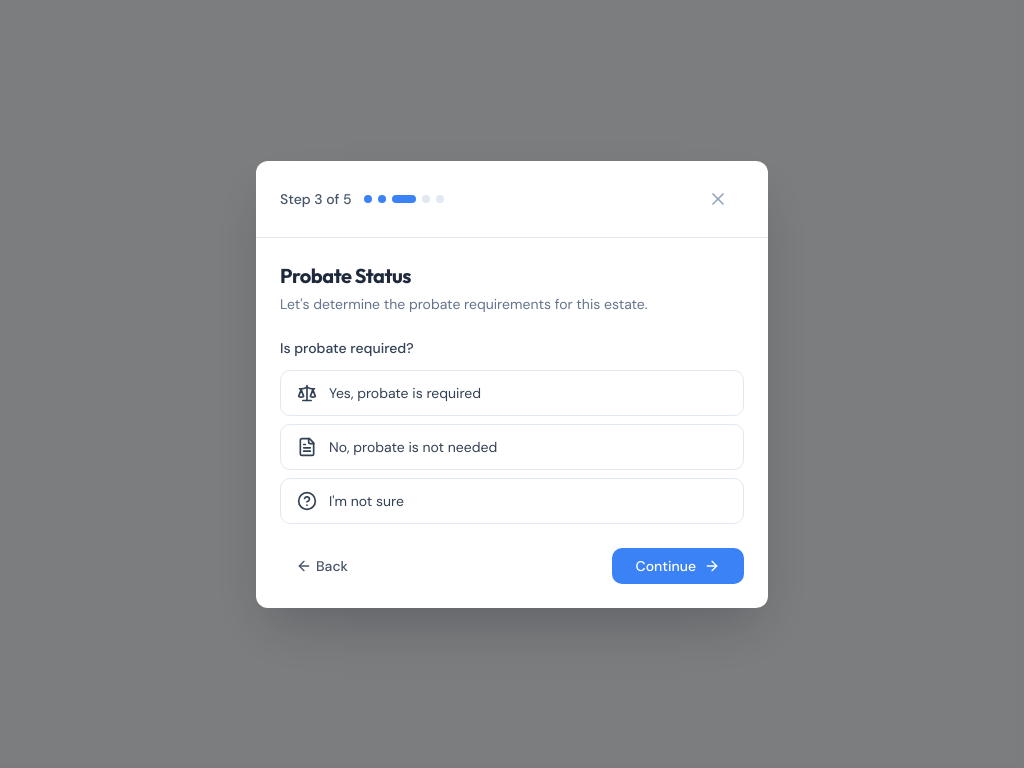
Test: OnboardingWizard › 13.6 Step 3: Probate Status Selection › shows probate type options when "yes" is selected
Click the button with test id "wizard-probate-yes": (405, 392) [280, 370, 744, 416]
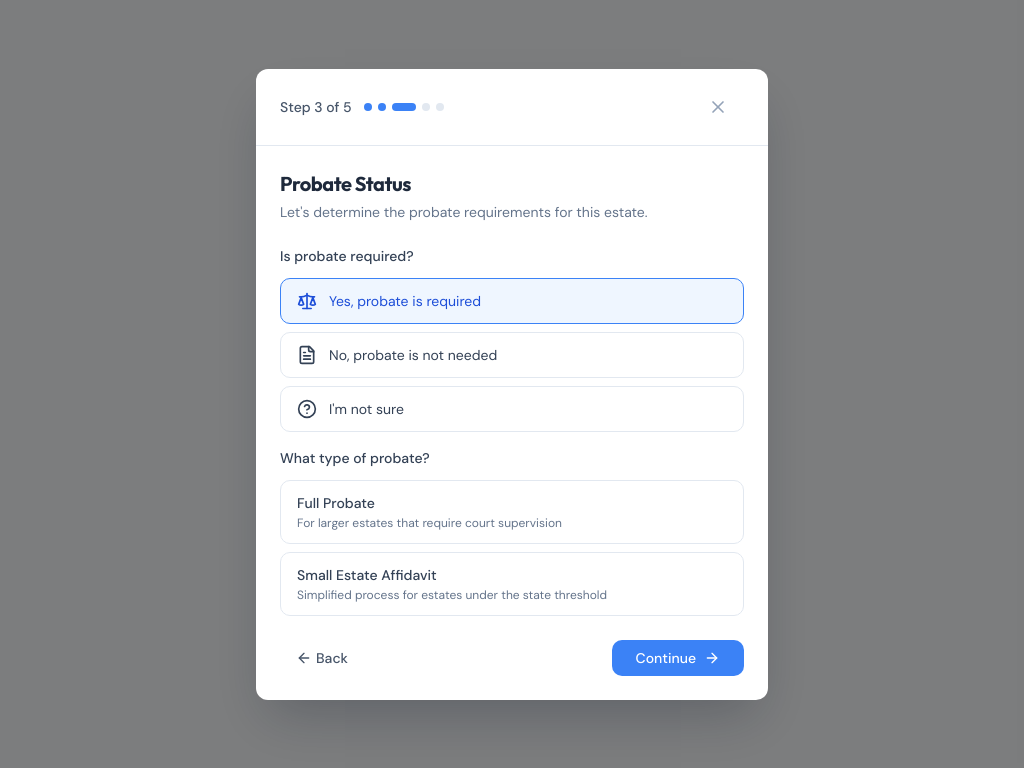
Now the button with test id "wizard-probate-type-full" is shown, box [280, 480, 744, 544]
Now the button with test id "wizard-probate-type-small" is shown, box [280, 552, 744, 616]
